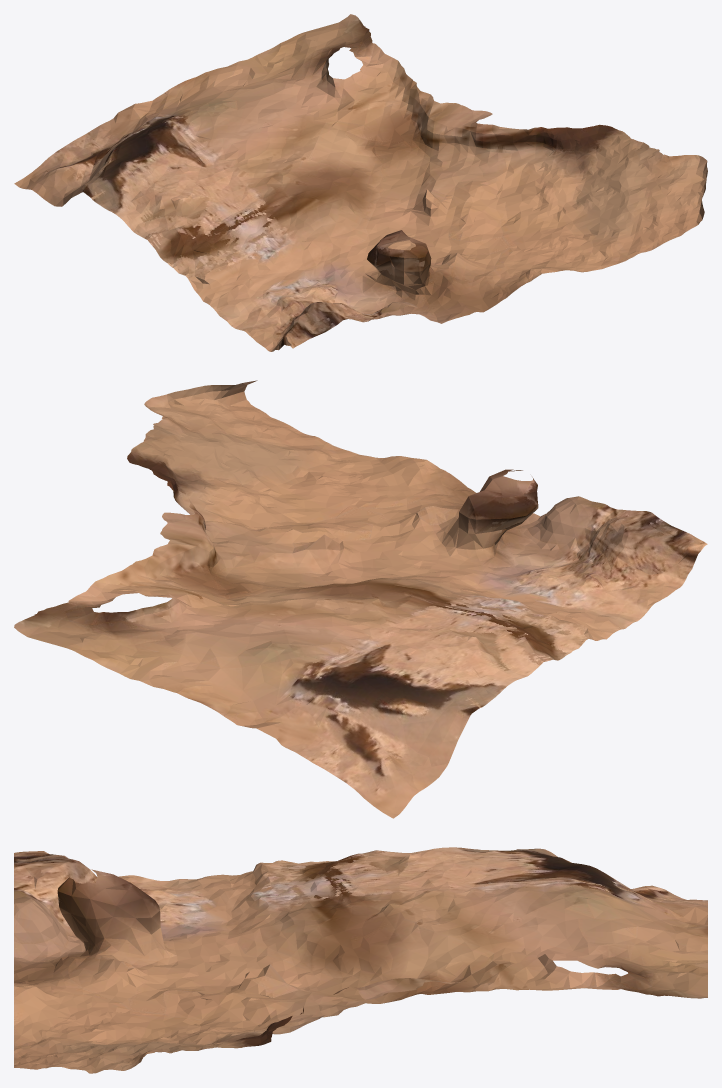
3 renders of one model, top to bottom at view 1: azimuth 30°, elevation 25°; view 2: azimuth 150°, elevation 25°; view 3: azimuth 270°, elevation 25°, orthographic. The views are drawn at different scales.
Size of the model in its own units: 0.9816 by 0.1807 by 1.04.
2 materials, 2 textured.
